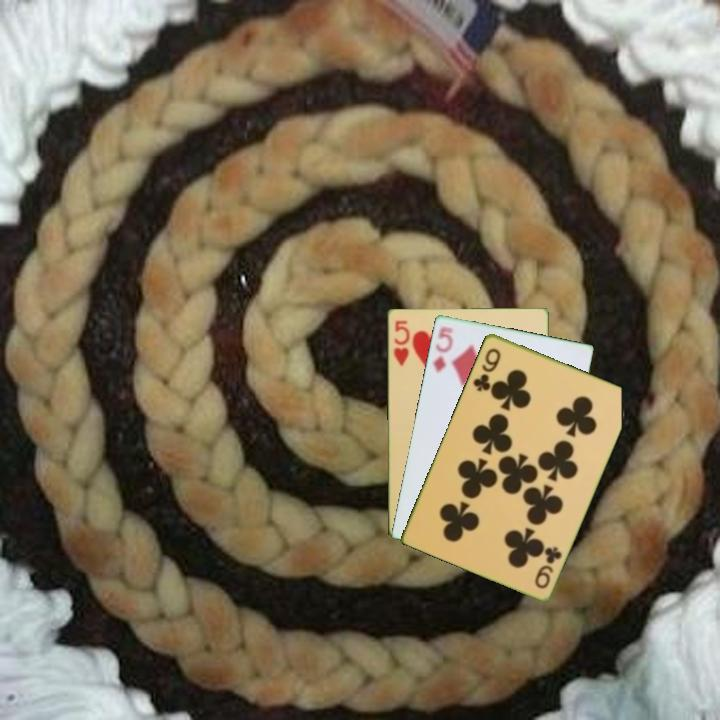5d: (429, 322, 455, 375)
5h: (390, 317, 412, 368)
9c: (469, 344, 503, 394), (531, 542, 565, 591)
